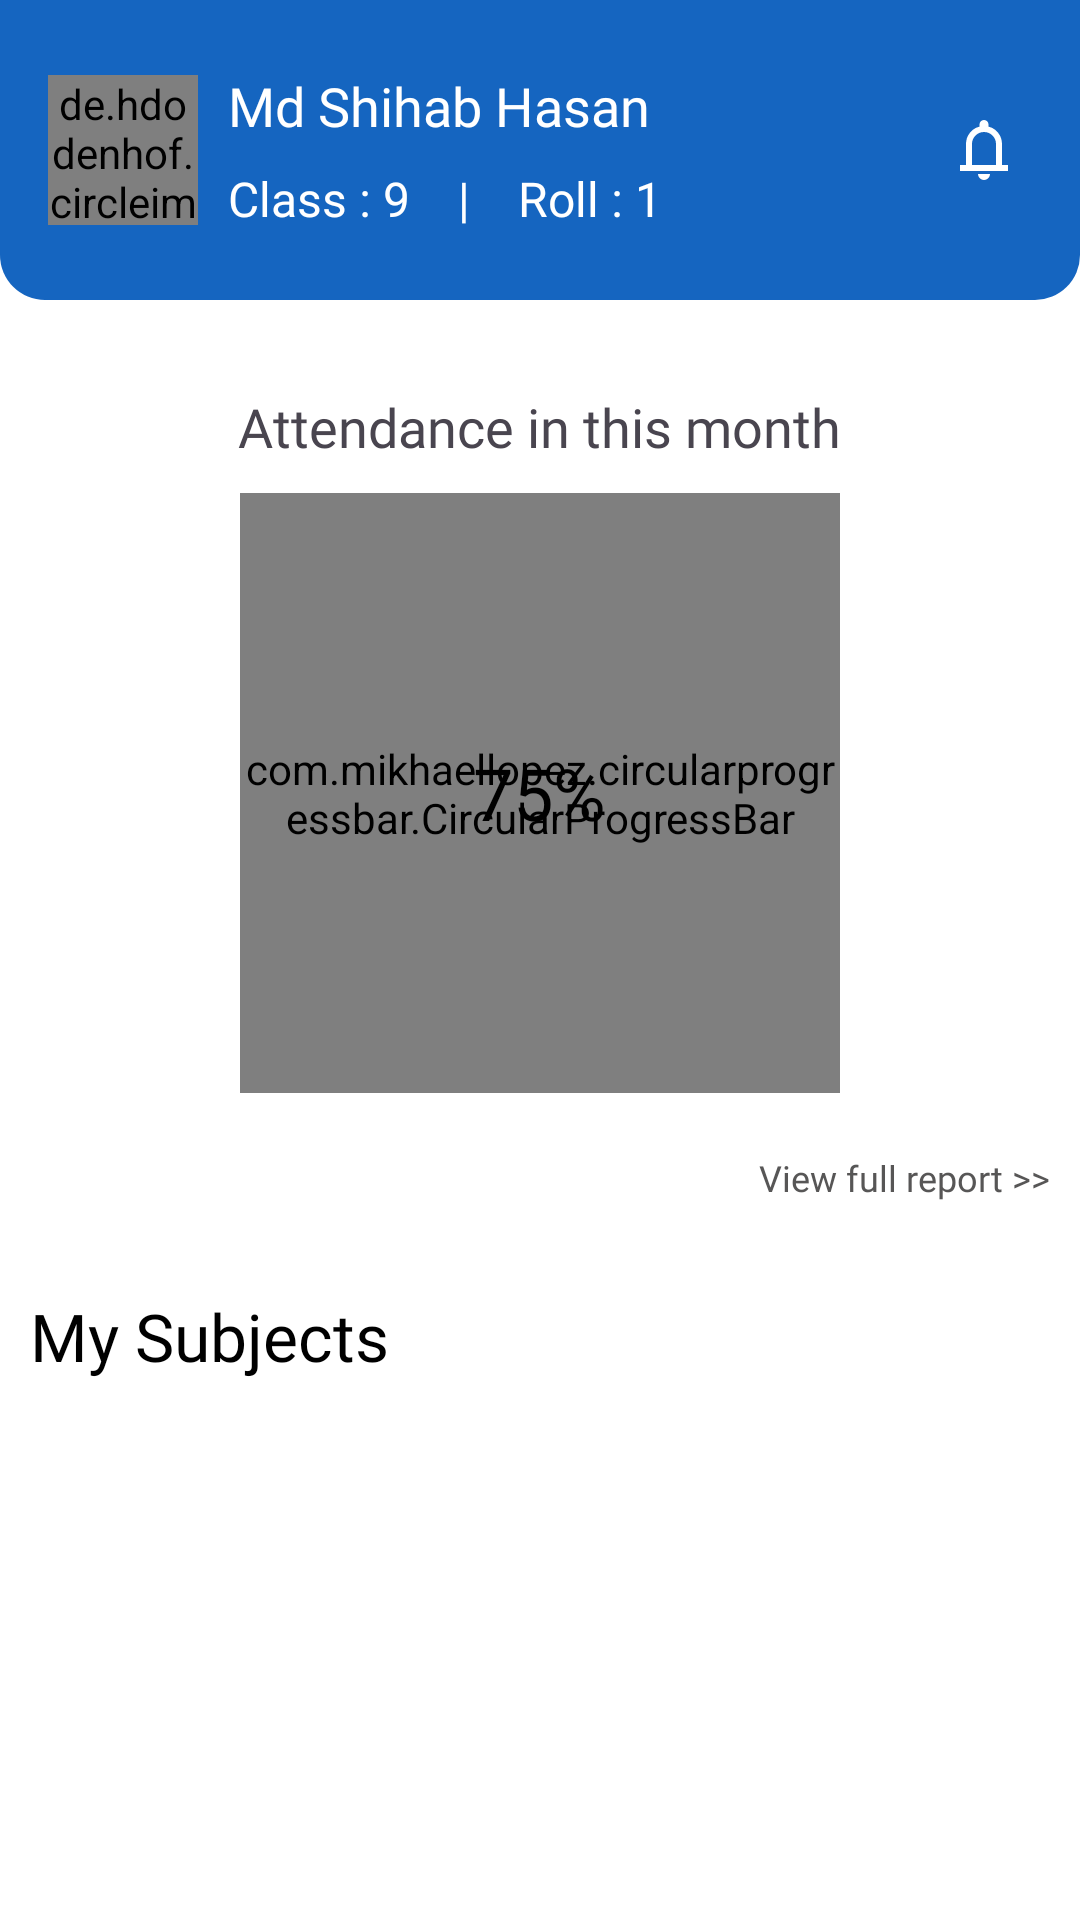

Icons on this 1080*1920 Android screen, each with the point to tap as (x,y):
notification: (984,150)
